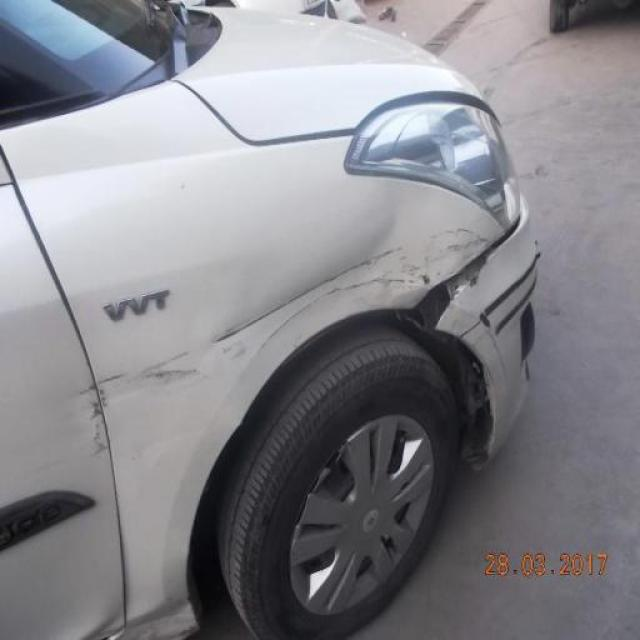dent: (68, 582, 195, 640)
misalignment: (415, 211, 523, 327)
scratch: (227, 220, 500, 364), (207, 240, 403, 349), (70, 345, 207, 400), (451, 296, 517, 403), (82, 380, 111, 458)
